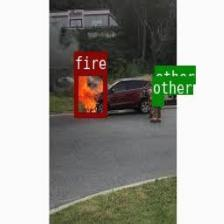fire: (73, 70, 106, 116)
